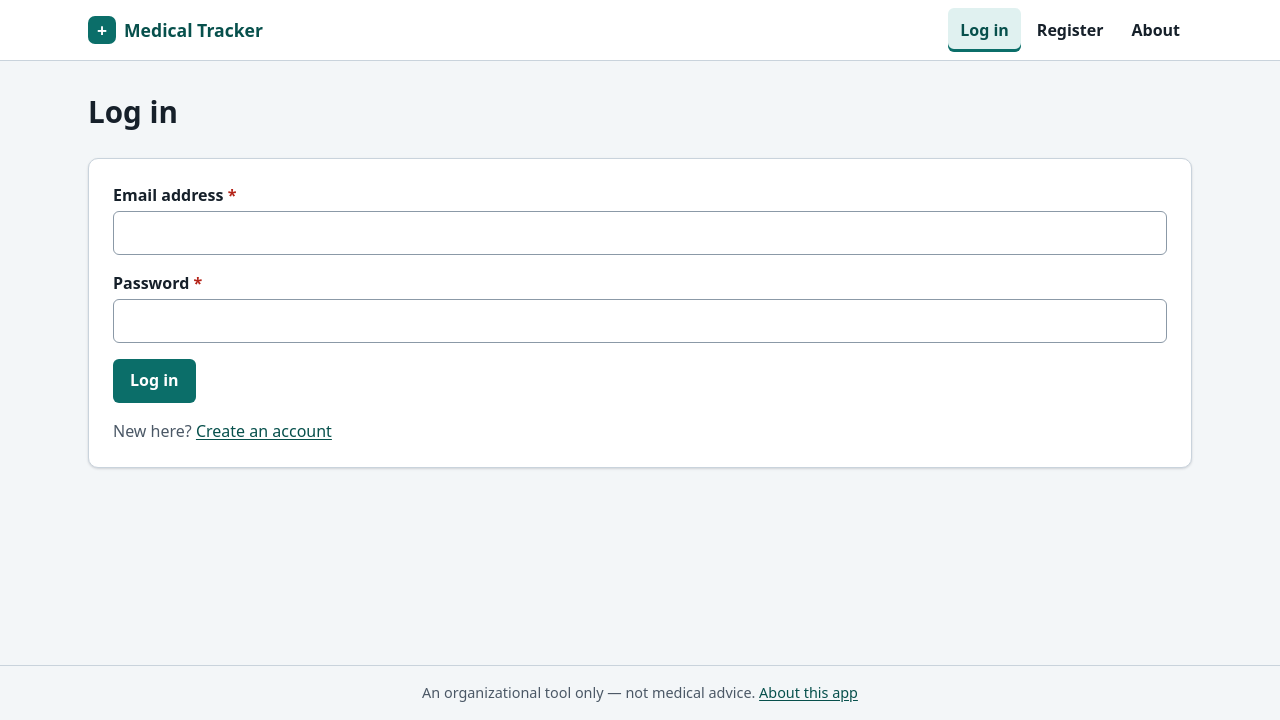
it: login › TC-FR-005-06 — Frontend holds the access token only in memory
In the field labelled "Email address *": [640, 233] box [113,211,1167,255], type "person@example.com"
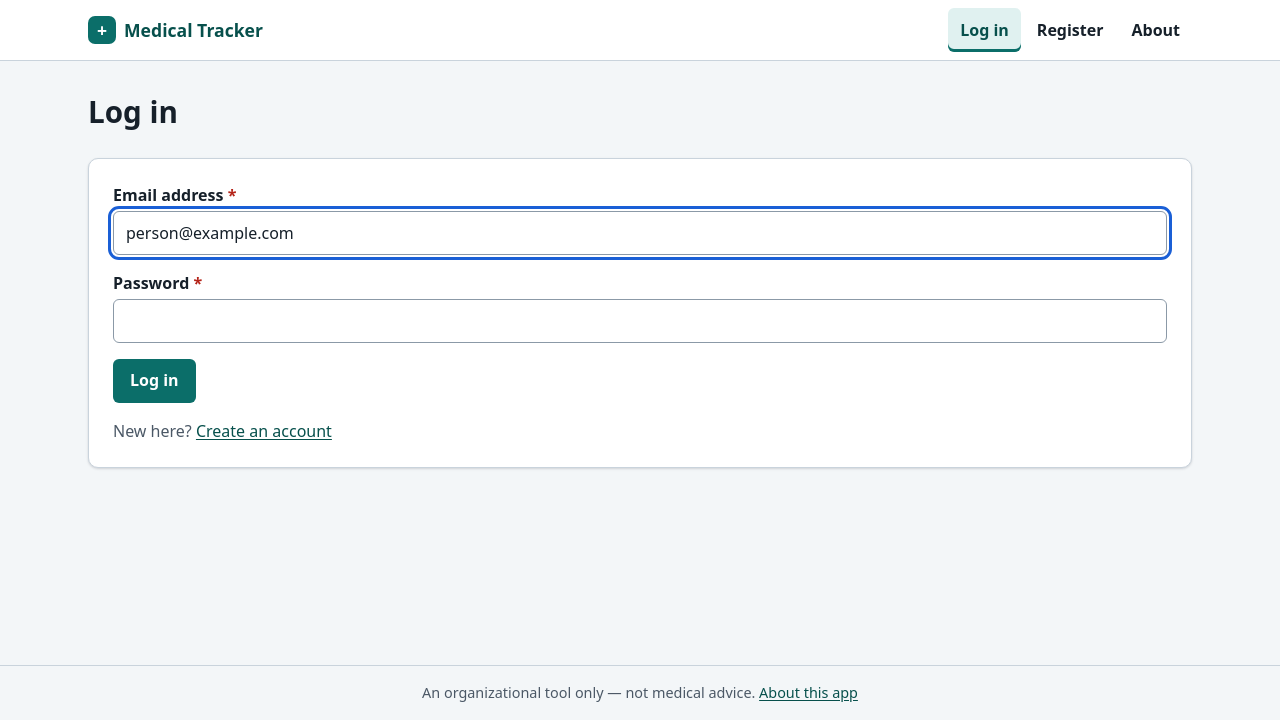
In the password field labelled "Password *": [640, 321] box [113,299,1167,343], type "correct-horse-battery"
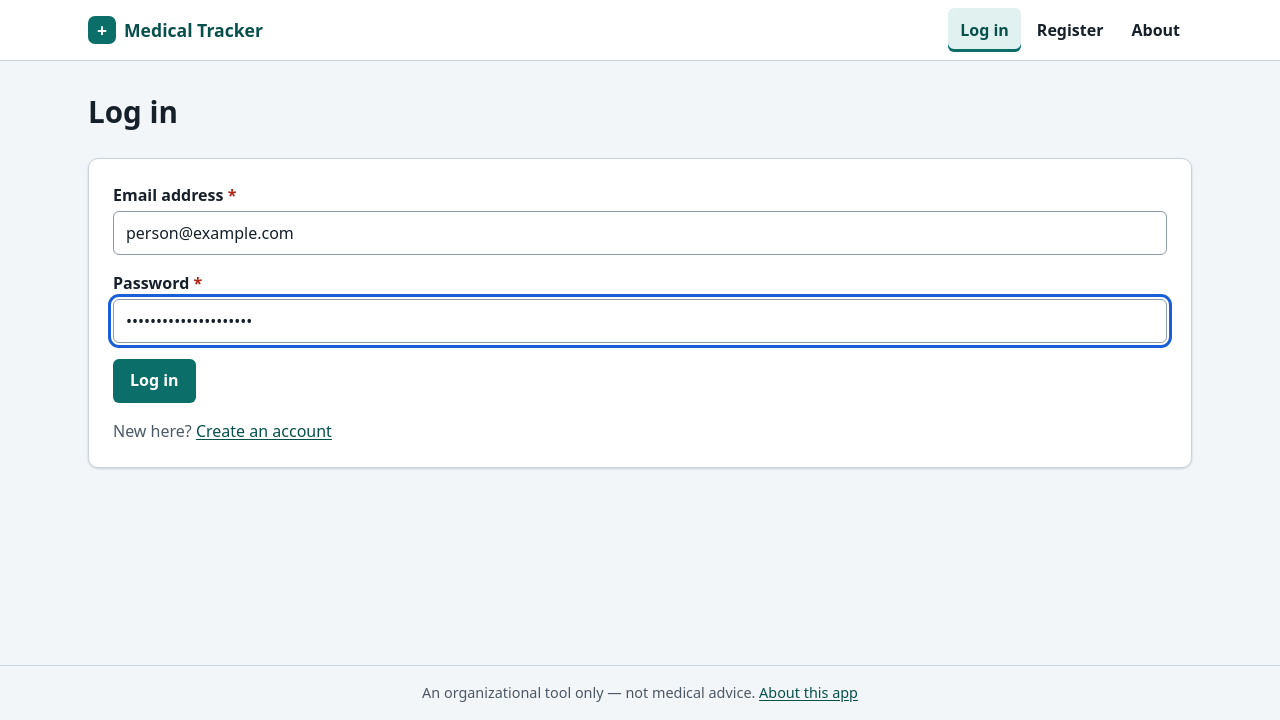
Click the button "Log in": [154, 381] box [113,359,196,403]
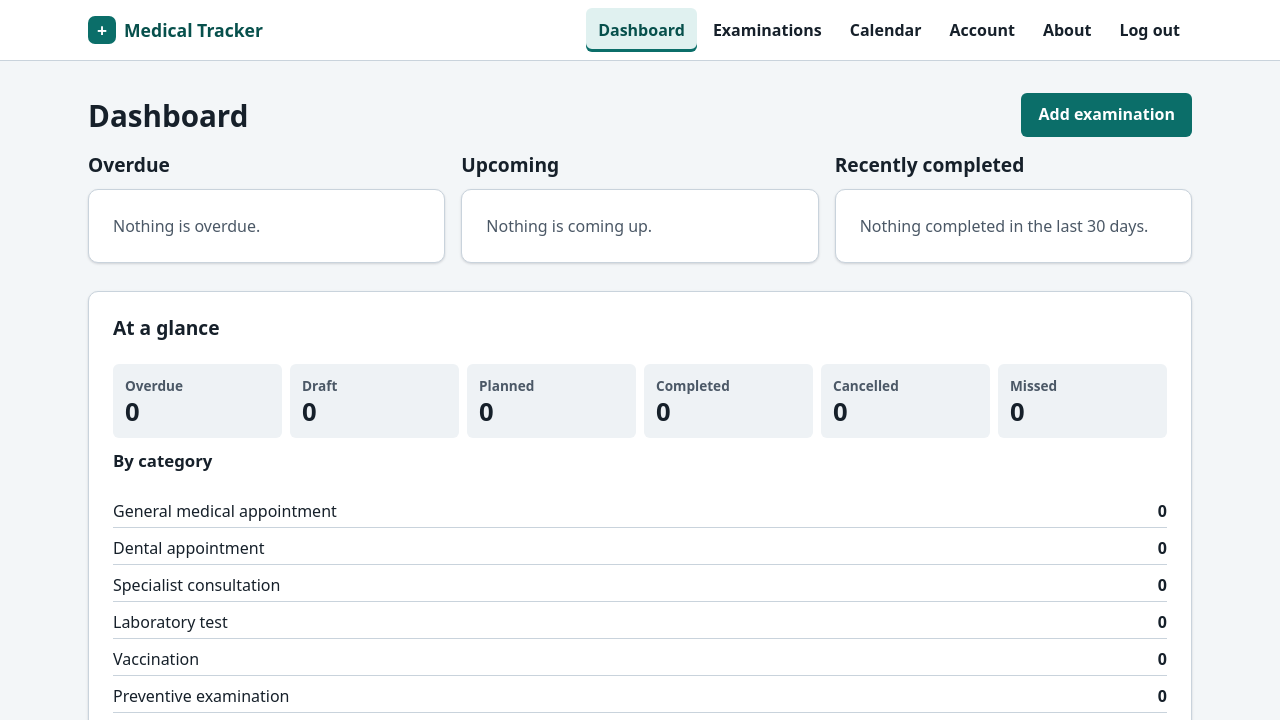
Expected: the heading "Dashboard" is shown, [88,96,248,134]
